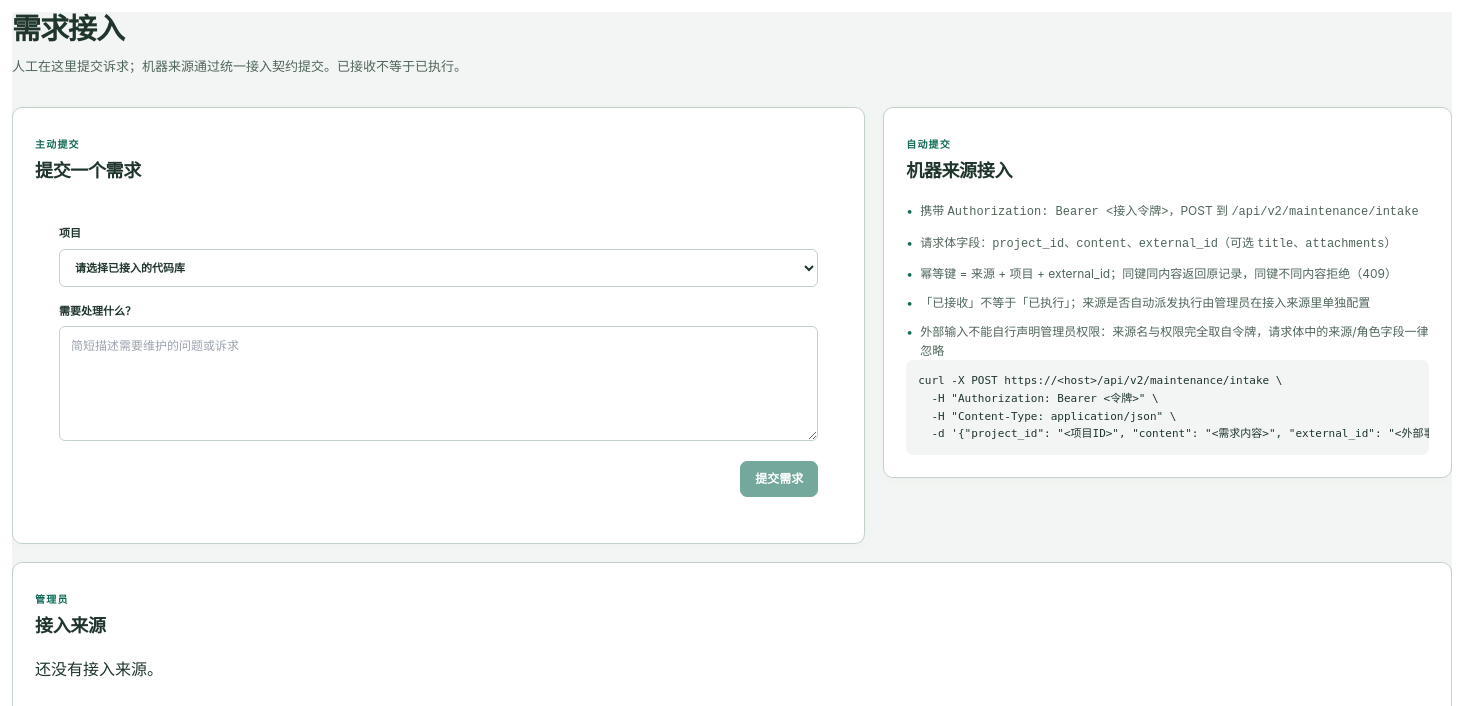
Test: 需求接入 · 主动提交 › 提交需求成功后显示回执，含「已接收 ≠ 已执行」
Expected: the form with test id "manual-intake-form" is shown, [35,201,842,521]
Select "订单服务" in the dropdown labelled "项目": (439, 268) [59,249,818,287]
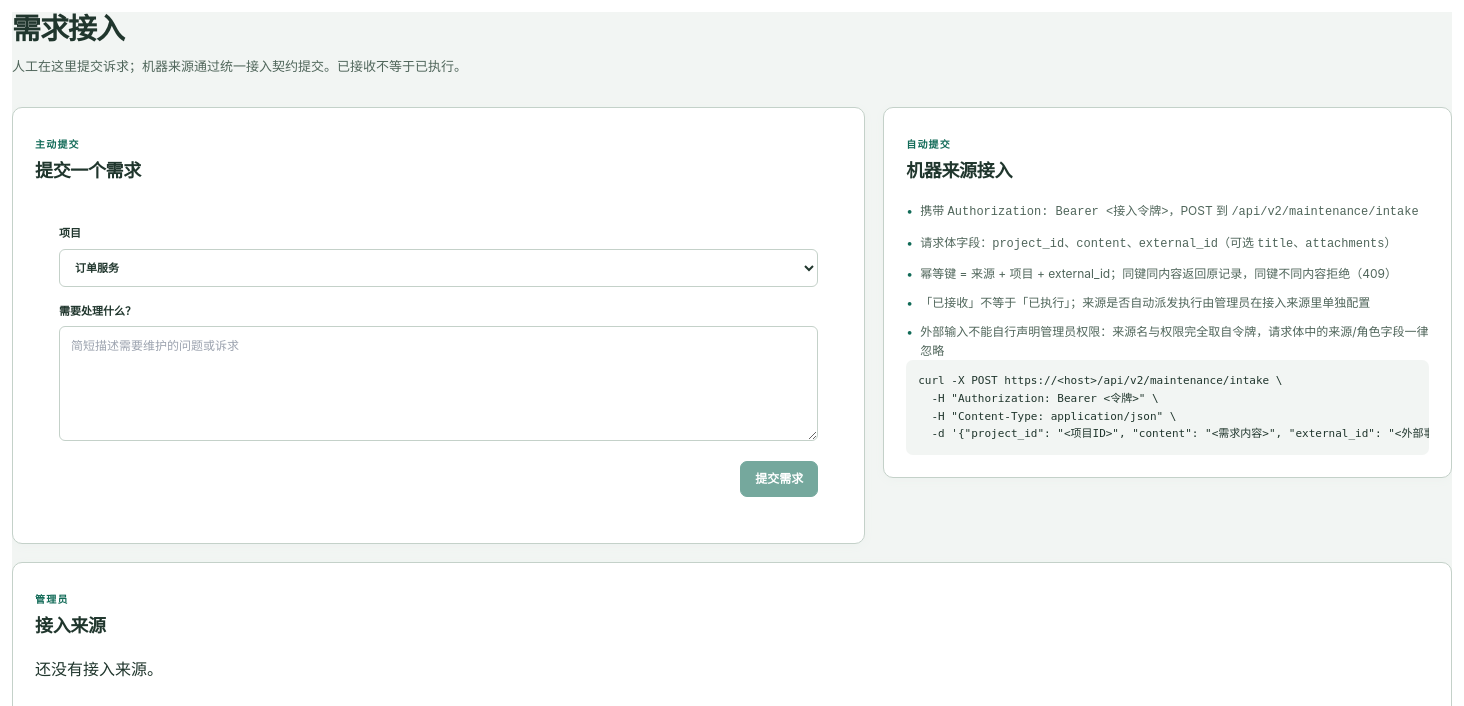
In the text box labelled "需要处理什么？": (439, 384) [59,326,818,441], type "订单导出报错"
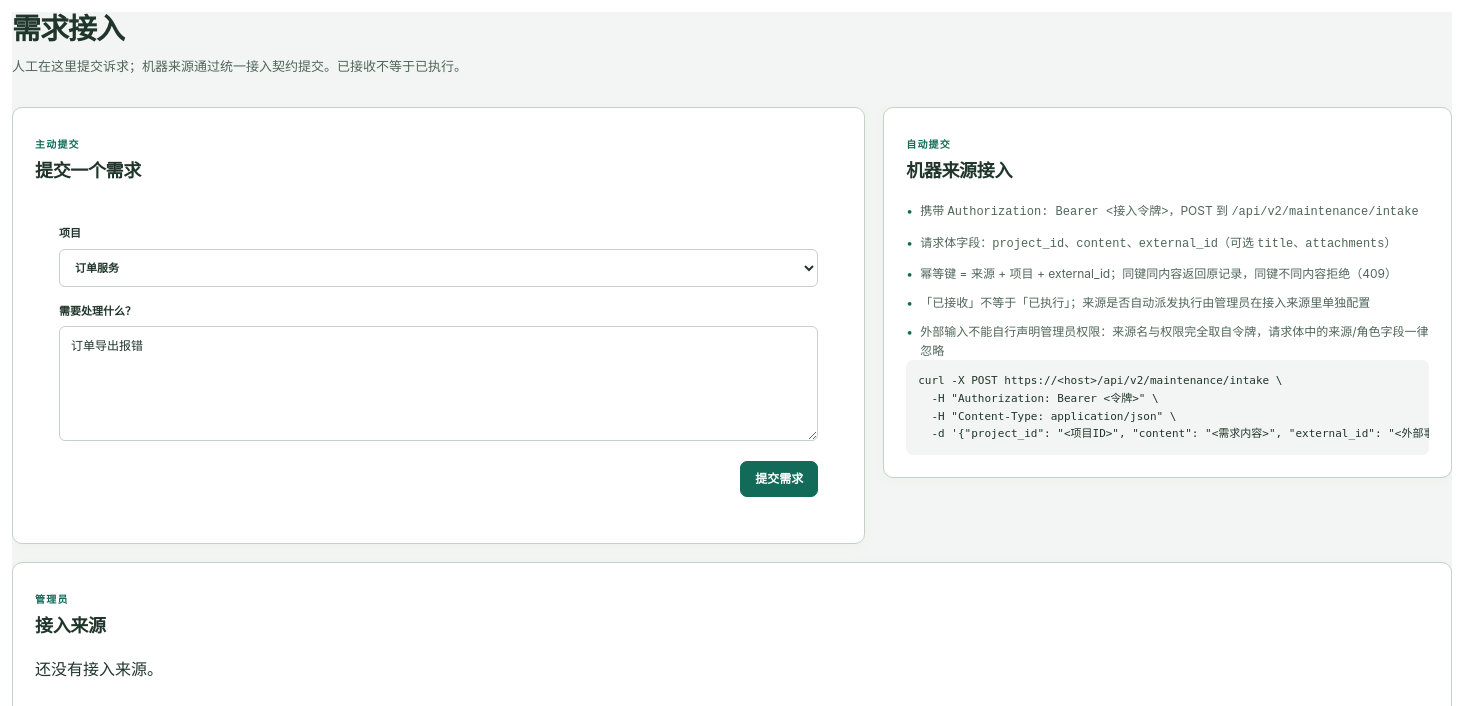
Click the button "提交需求": (779, 479) [740,461,818,497]
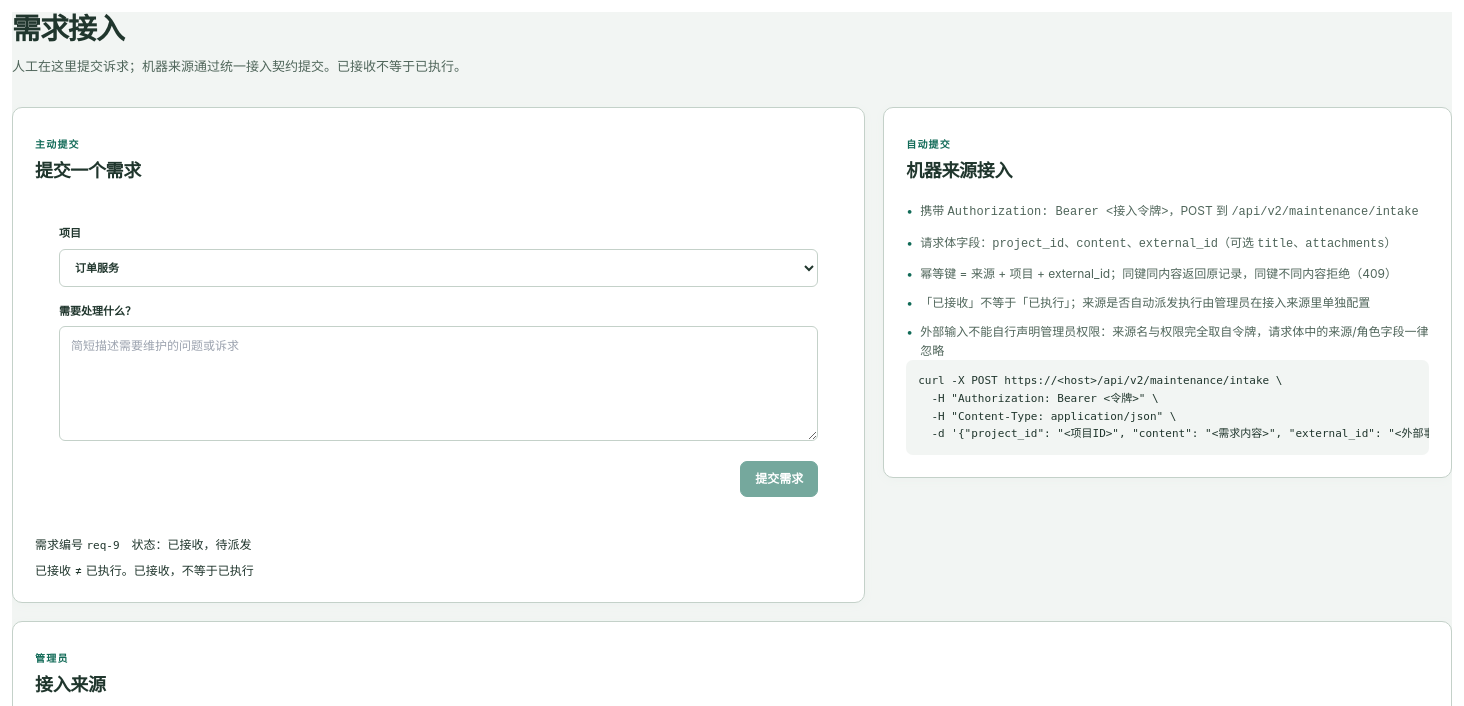
Now the message "需求编号 req-9 状态：已接收，待派发 已接收 ≠ 已执行。已接收，不等于已执行" is shown, box [35,537,254,578]
Now the message with test id "manual-receipt" shows "已接收 ≠ 已执行", box [35,563,134,578]
Now the message with test id "manual-receipt" shows "已接收，待派发", box [168,537,252,552]
